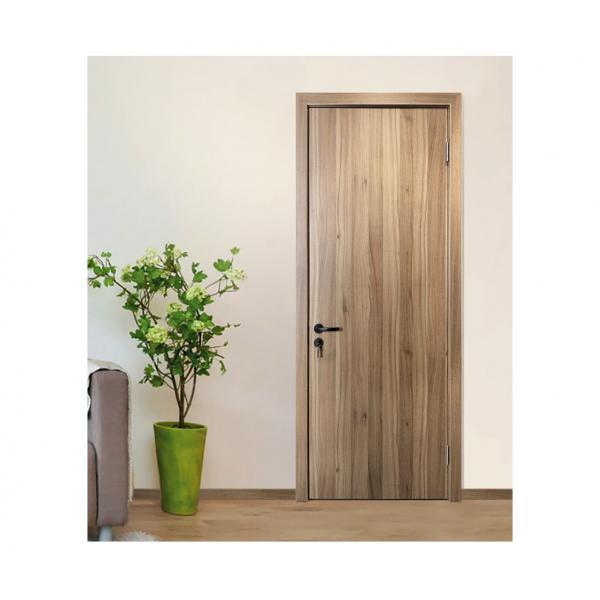door: (307, 105, 449, 498)
